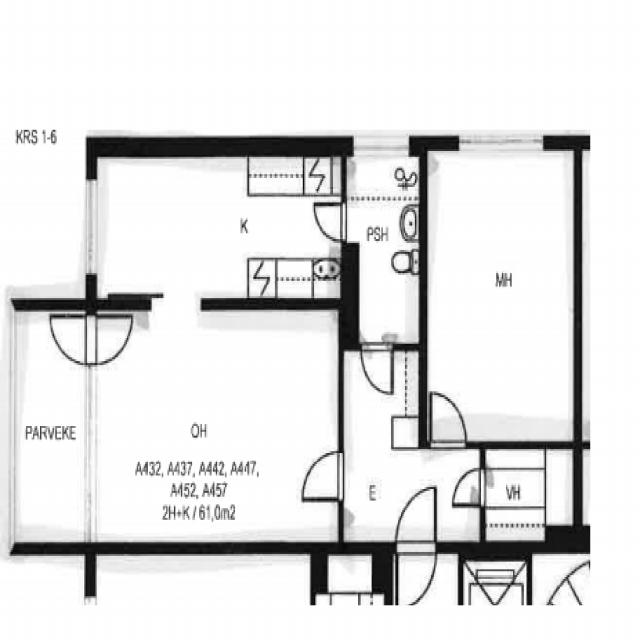door: (395, 542, 436, 615), (395, 486, 436, 558), (84, 314, 133, 365), (48, 314, 96, 364), (302, 450, 345, 500), (431, 391, 466, 449), (362, 344, 392, 396), (453, 468, 487, 506)
